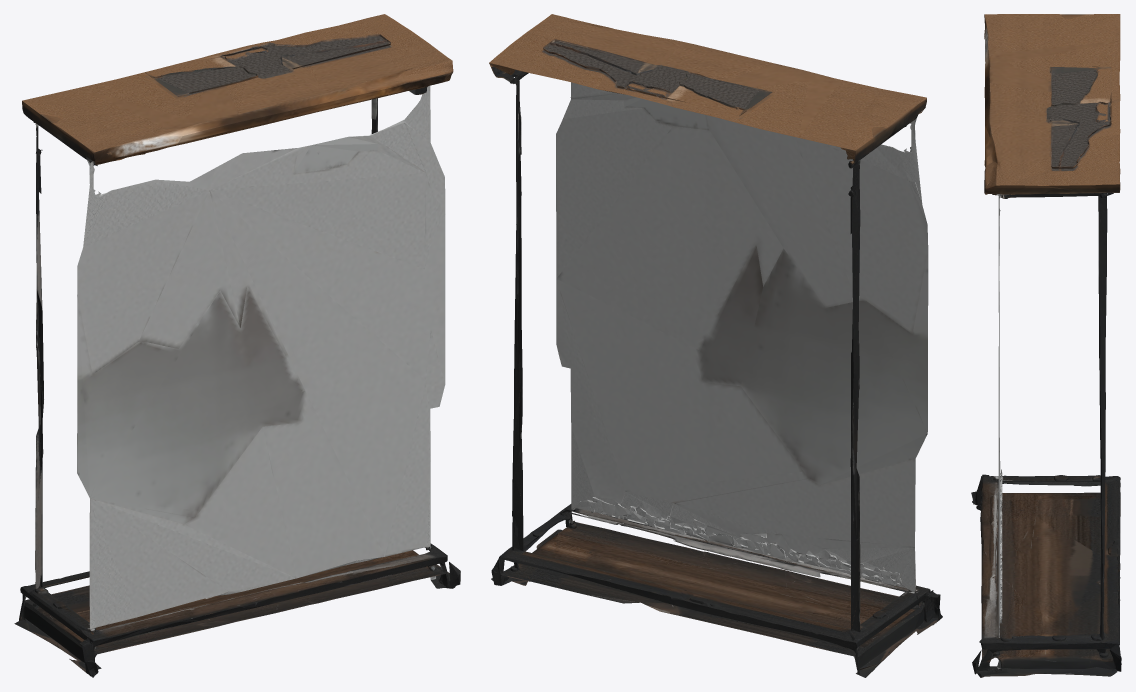
The model's file is coat-rail.glb.
3 views of the same model, side by side, from view 1: azimuth 30°, elevation 25°; view 2: azimuth 150°, elevation 25°; view 3: azimuth 270°, elevation 25° (orthographic). The views are drawn at different scales.
Parts seen in each view (by area): view 1: Mesh_0; view 2: Mesh_0; view 3: Mesh_0.
Part boxes in pixels (x1,y1,x2,y2): Mesh_0: (14,14,460,677); Mesh_0: (489,14,942,677); Mesh_0: (971,14,1121,677).
Bounding box in the file's own units: 1.33 × 1.76 × 0.4807.
1 material, 1 textured.
